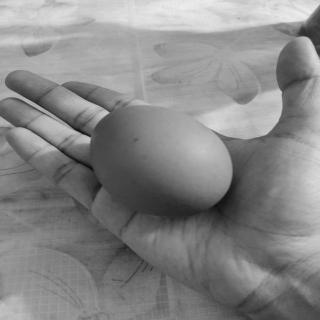Telur: (86, 103, 234, 221)
